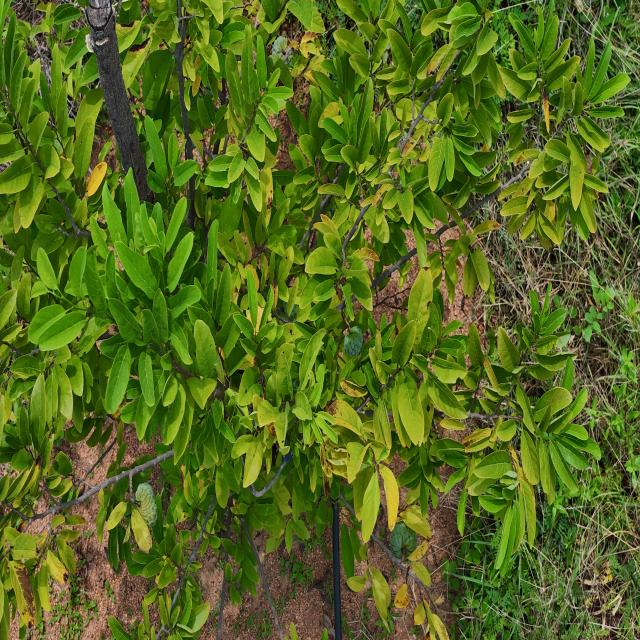notMangoTree: (0, 0, 633, 640)
